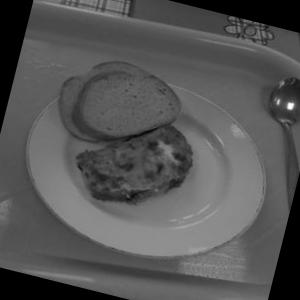bread: (41, 40, 196, 158)
cheese_sandwich: (59, 98, 202, 235)
